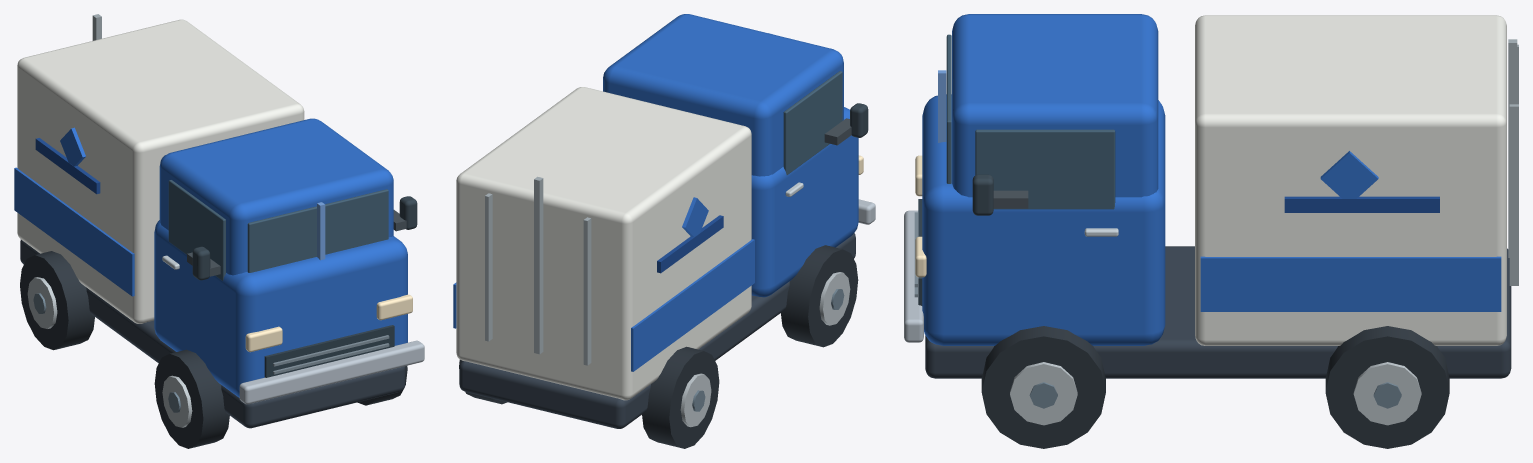
The model's file is truck-2-blue.glb.
The picture shows the model from 3 angles, left to right: view 1: azimuth 30°, elevation 25°; view 2: azimuth 150°, elevation 25°; view 3: azimuth 270°, elevation 25°; orthographic projection. The views are drawn at different scales.
Visible parts, largest first — view 1: truck-2, static-17--42, static-17--37, static-17--26, static-17--23, static-17--32, static-17--33, static-17--31, static-17--29, static-17--34, static-17--20; view 2: truck-2, static-17--42, static-17--26, static-17--28, static-17--37, static-17--23, static-17--29, static-17--33, static-17--34, static-17--20; view 3: truck-2, static-17--42, static-17--26, static-17--37, static-17--23, static-17--28, static-17--29, static-17--20, static-17--33, static-17--32, static-17--34.
Boxes of the visible parts, x1,y1,x2,y2 form: truck-2: (17,19,424,428); static-17--42: (14,118,407,397); static-17--37: (168,180,388,280); static-17--26: (20,251,407,448); static-17--23: (27,277,192,427); static-17--32: (245,294,412,352); static-17--33: (192,196,417,280); static-17--31: (273,335,389,374); static-17--29: (35,138,100,194); static-17--34: (187,210,406,276); static-17--20: (33,293,180,412); truck-2: (456,33,875,428); static-17--42: (453,14,858,371); static-17--26: (459,245,858,448); static-17--28: (485,176,591,365); static-17--37: (783,71,842,174); static-17--23: (680,272,850,427); static-17--29: (657,215,723,273); static-17--33: (850,103,868,137); static-17--34: (824,118,851,145); static-17--20: (692,289,844,411); truck-2: (904,15,1511,378); static-17--42: (922,14,1501,345); static-17--26: (981,326,1449,448); static-17--37: (946,34,1115,209); static-17--23: (1010,362,1421,425); static-17--28: (1508,39,1518,285); static-17--29: (1284,196,1439,212); static-17--20: (1029,382,1401,408); static-17--33: (972,174,993,215); static-17--32: (915,155,926,277); static-17--34: (993,190,1028,208).
Size of the model in its own units: 2.29 by 2.69 by 4.35.
